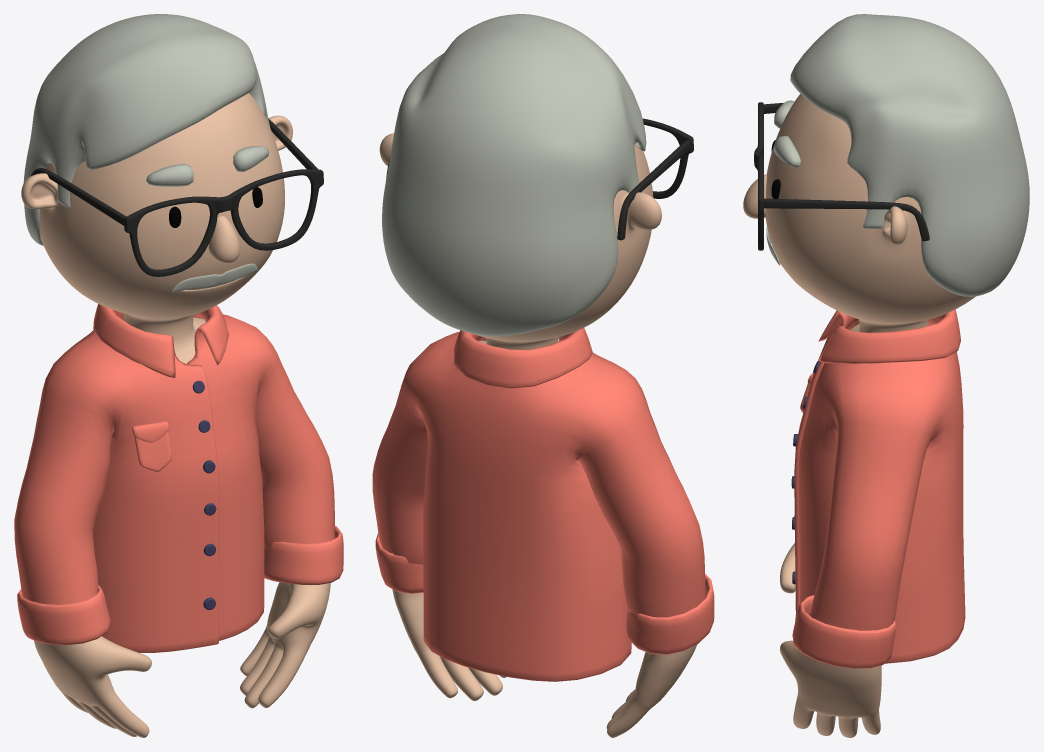
The picture shows the model from 3 angles, left to right: view 1: azimuth 30°, elevation 25°; view 2: azimuth 150°, elevation 25°; view 3: azimuth 270°, elevation 25°; orthographic projection. The views are drawn at different scales.
Visible parts, largest first — view 1: Shirt, body, Hair_12.001, eyeglass_4.001, Eyebrow.002, nose; view 2: Shirt, Hair_12.001, body, eyeglass_4.001; view 3: Shirt, Hair_12.001, body, eyeglass_4.001, Eyebrow.002, nose.
Part boxes in pixels (x1,y1,x2,y2): Shirt: (14,304,343,652); body: (21,93,330,737); Hair_12.001: (23,14,270,291); eyeglass_4.001: (31,118,323,276); Eyebrow.002: (146,146,268,186); nose: (208,216,240,263); Shirt: (372,328,714,681); Hair_12.001: (382,14,646,336); body: (379,133,697,737); eyeglass_4.001: (386,118,693,240); Shirt: (791,309,965,668); Hair_12.001: (766,14,1029,296); body: (765,94,975,737); eyeglass_4.001: (754,102,929,250); Eyebrow.002: (774,100,800,167); nose: (743,174,766,218).
Size of the model in its own units: 6.4 by 13.29 by 5.08.
